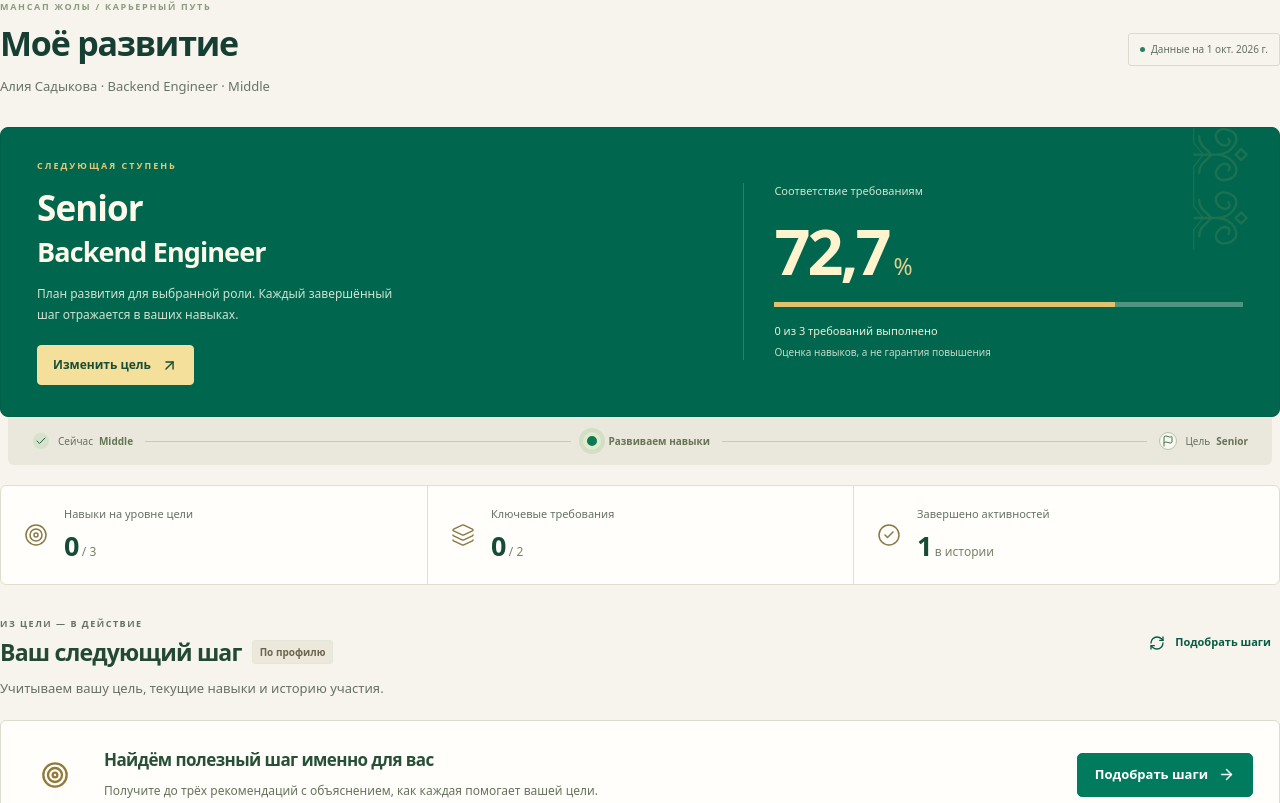
Scenario: employee workflow › offers a profile refresh after a definite revision conflict and removes the rejected command
The width and height of the screenshot is (1280, 803).
Click the button "Подобрать шаги" in the row of "По профилю": coordinates (1210, 643) [1140,621,1279,665]
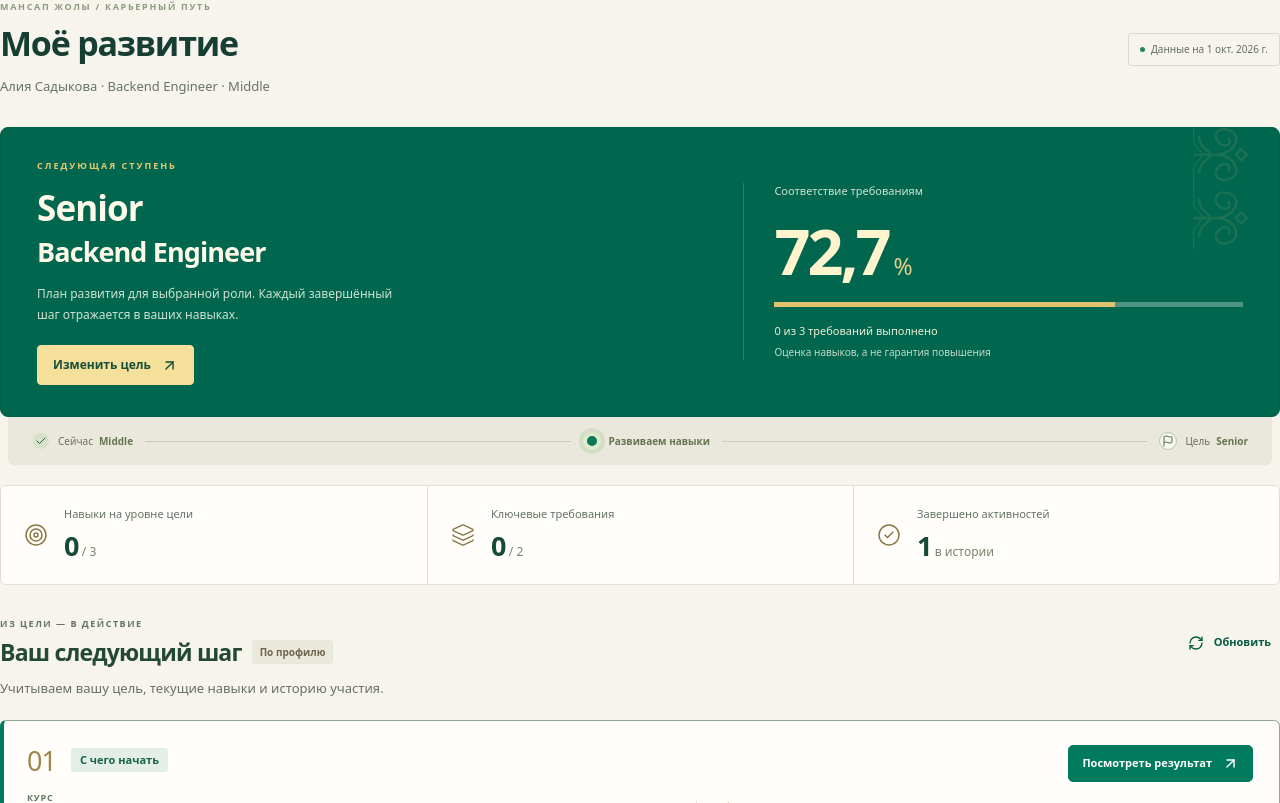
Click the button "Посмотреть результат": coordinates (1161, 763) [1068,744,1253,782]
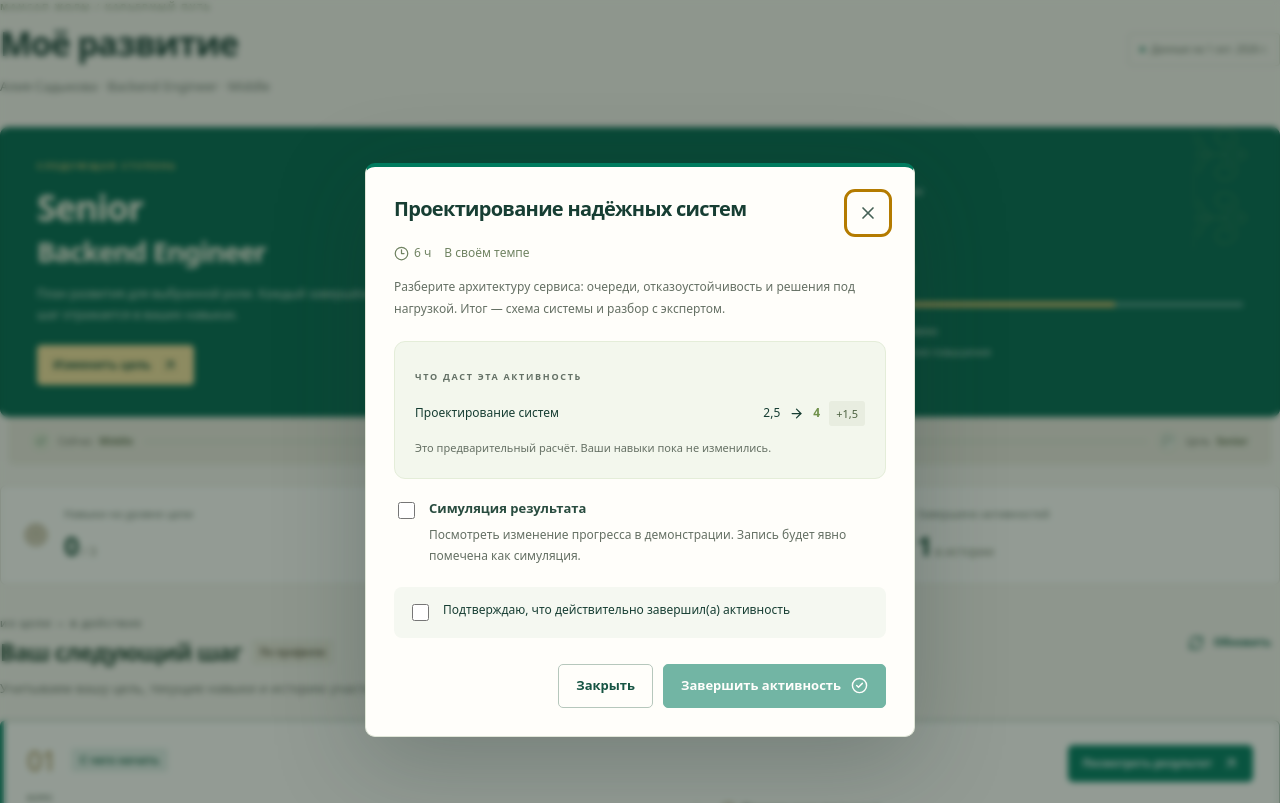
Check: the text "Это предварительный расчёт. Ваши навыки пока не изменились." is shown, box [415,440,771,455]
Click the checkbox labelled "Подтверждаю, что действительно завершил(а) активность": coordinates (420, 612) [412,604,429,621]
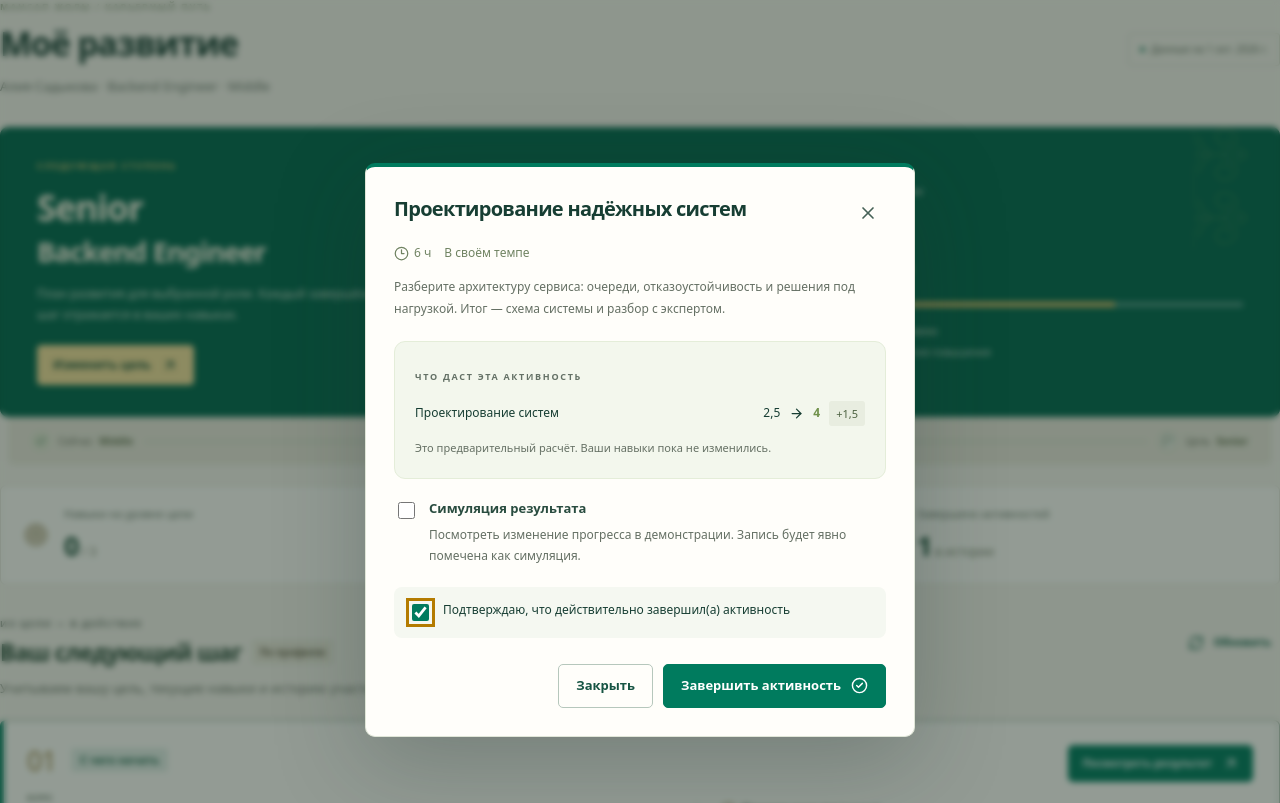
Click the button "Завершить активность": coordinates (774, 686) [663,664,886,708]
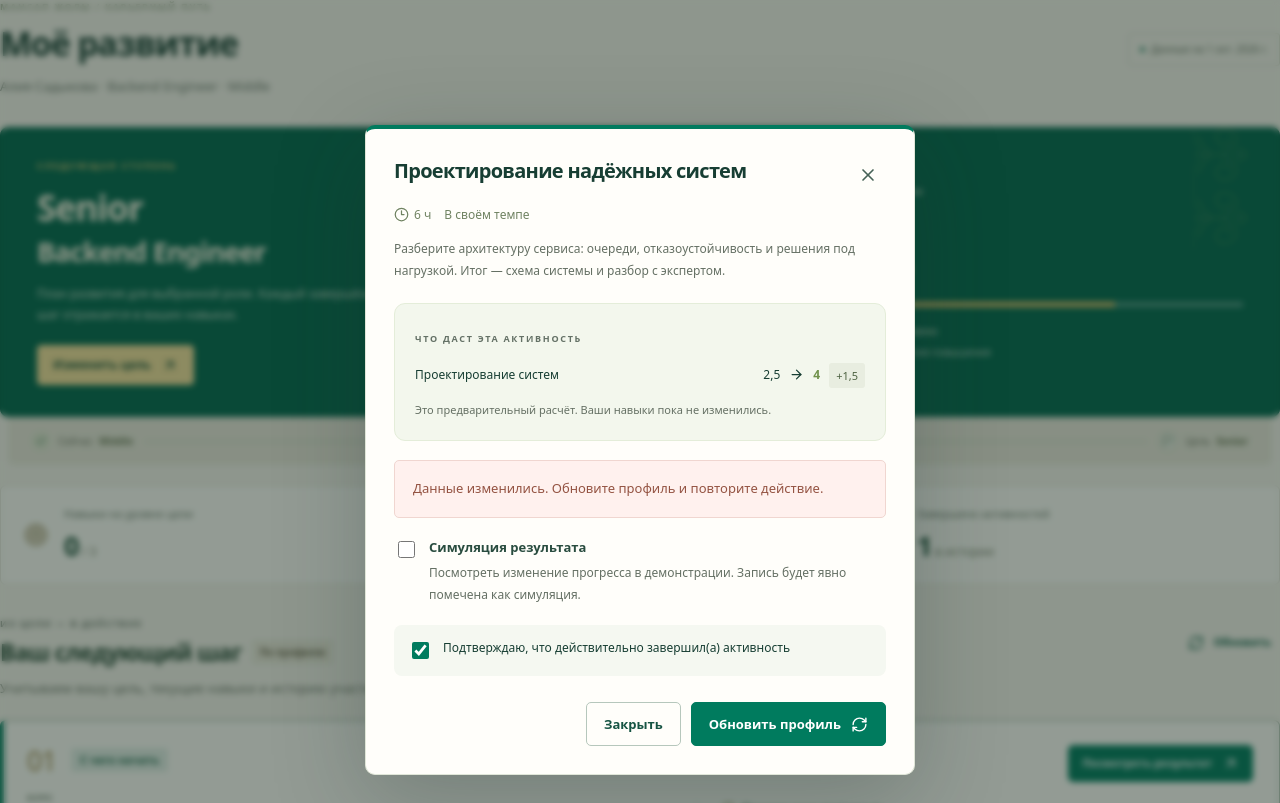
Check: the message "Данные изменились. Обновите профиль и повторите действие." is shown, box [394,460,886,518]
Check: the button "Завершить активность" is gone
Click the button "Обновить профиль": coordinates (788, 724) [691,702,886,746]
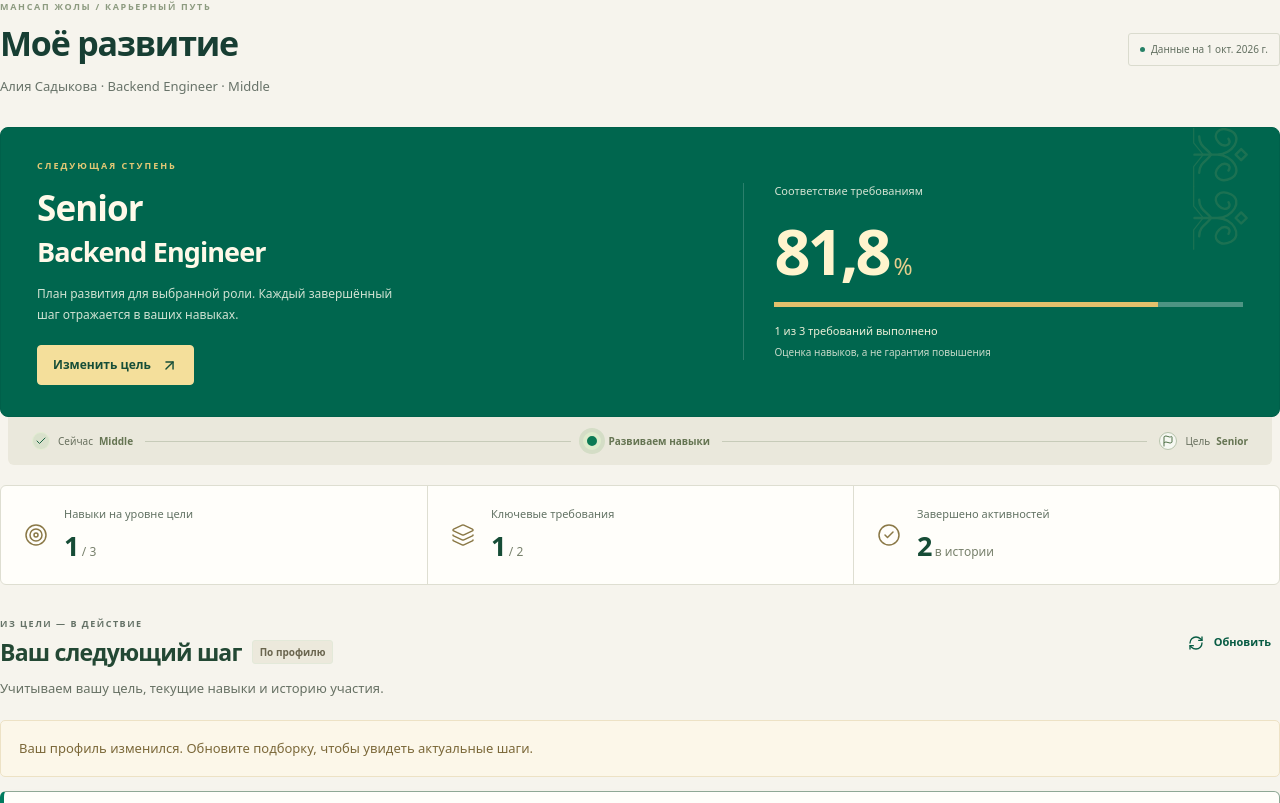
Check: the progress indicator named "Соответствие навыков карьерной цели" holds "81.82", box [774,302,1243,307]
Check: the dialog is gone
